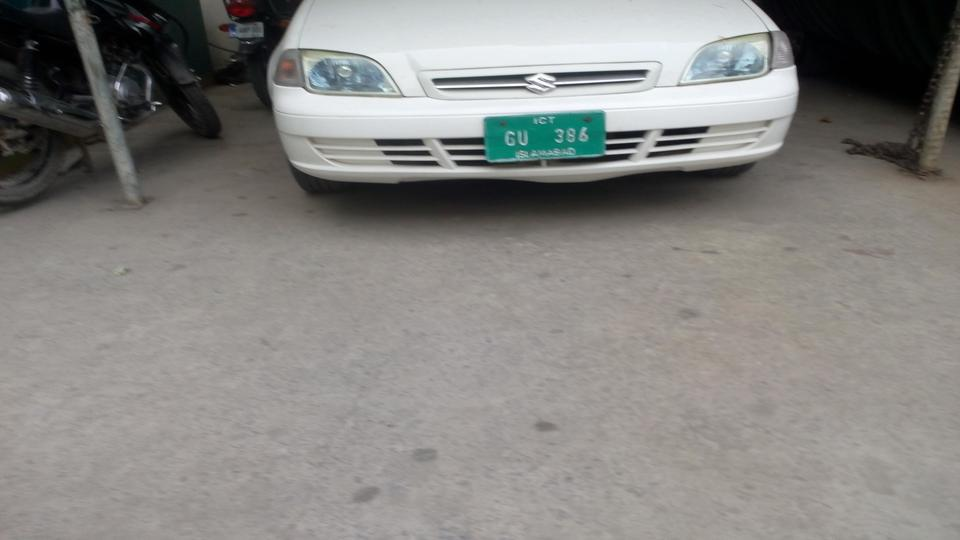NumberPlate: (479, 114, 611, 164)
